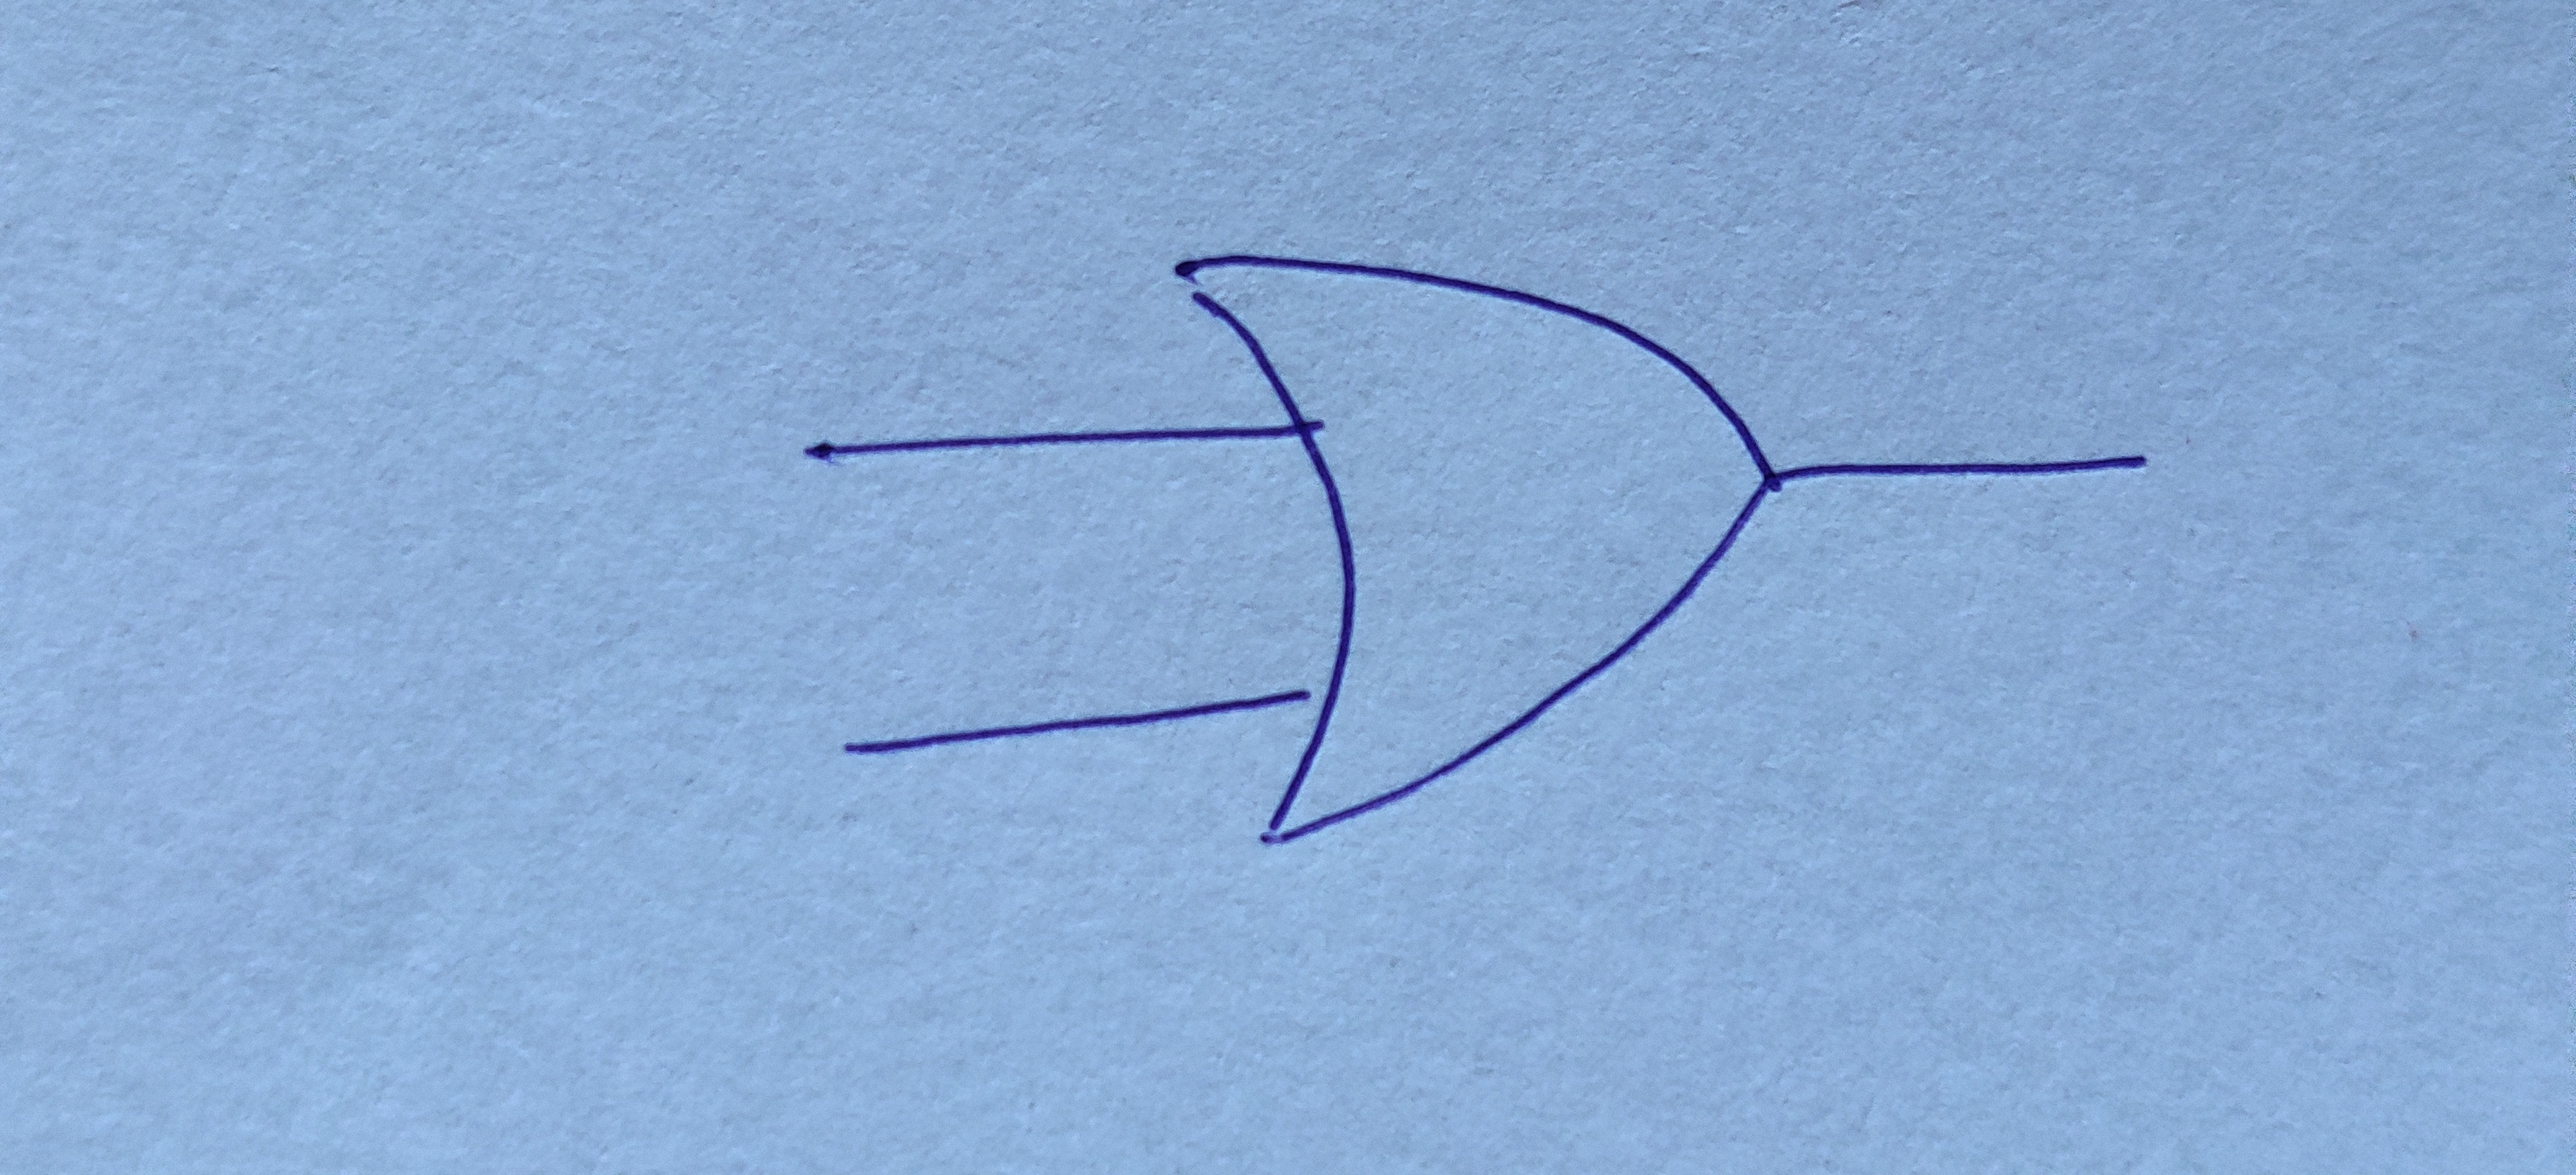or: (1176, 253, 1779, 843)
